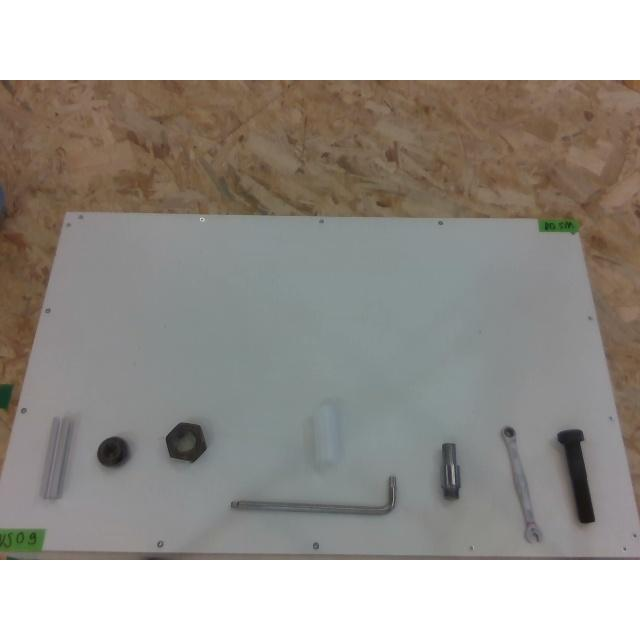AllenKey: (232, 476, 396, 514)
Axis2: (442, 442, 460, 498)
Bearing2: (97, 436, 129, 466)
F20_20_G: (40, 418, 72, 498)
M20_100: (558, 430, 594, 522)
M30: (166, 422, 206, 462)
Spacer: (313, 402, 341, 466)
Wrench: (501, 426, 541, 542)
